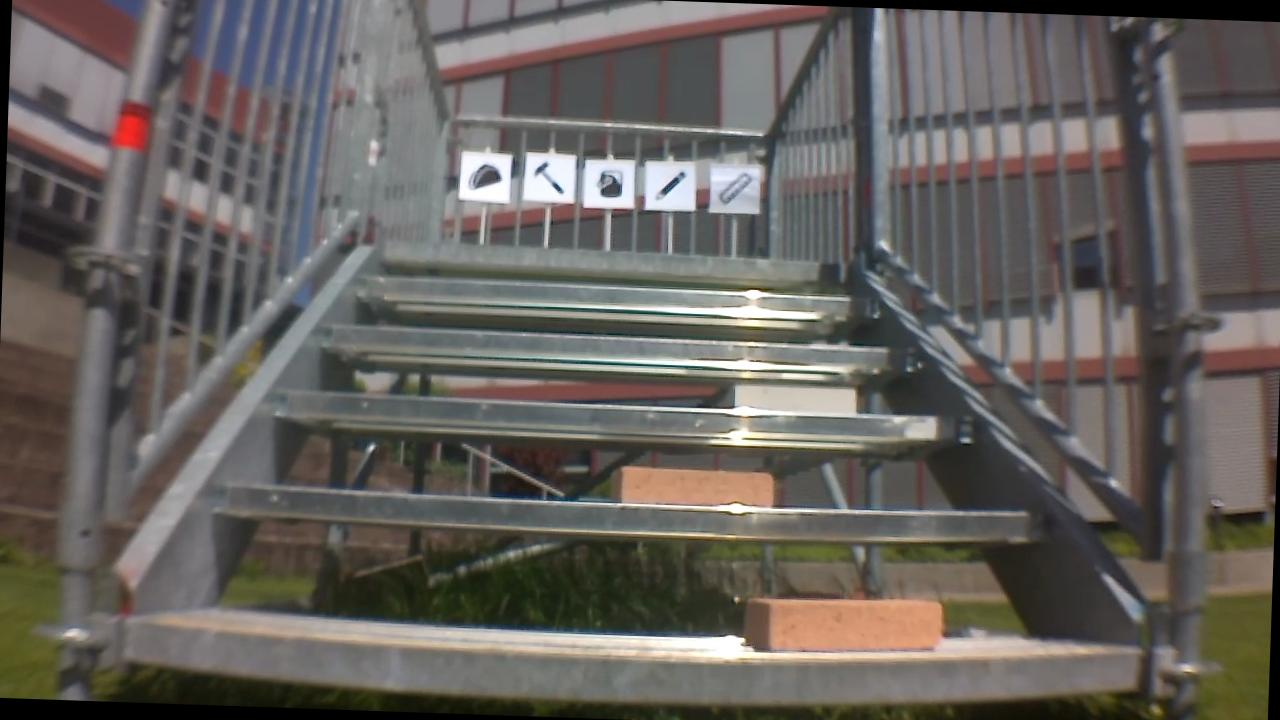brick: (733, 586, 940, 658), (607, 466, 775, 513), (727, 382, 856, 417)
bucket: (593, 165, 628, 199)
edge: (109, 610, 1148, 714), (217, 478, 1047, 546), (271, 392, 980, 444), (313, 325, 931, 372), (341, 276, 886, 324), (373, 243, 851, 284)
hammer: (532, 163, 571, 199)
pencil: (649, 168, 687, 203)
ruler: (720, 169, 753, 203)
steps: (95, 231, 1172, 720)
taco: (466, 164, 504, 190)
